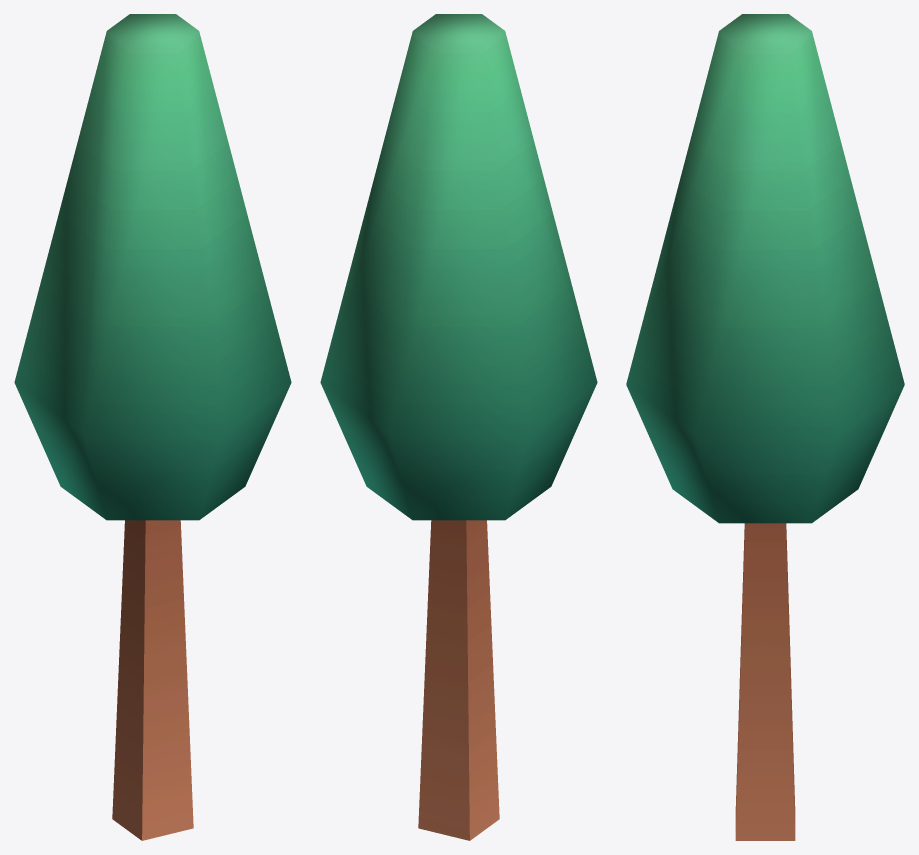
File: tree-large.glb
3 views of the same model, side by side, from view 1: azimuth 30°, elevation 25°; view 2: azimuth 150°, elevation 25°; view 3: azimuth 270°, elevation 25° (orthographic).
Visible parts, largest first — view 1: tree-large; view 2: tree-large; view 3: tree-large.
Boxes of the visible parts, x1,y1,x2,y2 form: tree-large: (14, 14, 291, 840); tree-large: (320, 14, 597, 840); tree-large: (626, 14, 904, 840).
Size of the model in its own units: 0.2104 by 0.767 by 0.243.
Materials: 1 (1 with a texture image).
